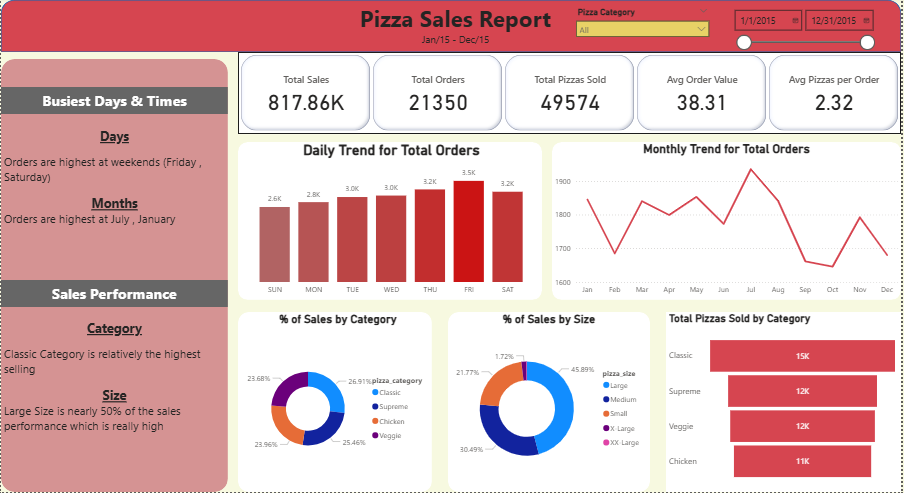

What the dashboard file says about the page in this screenshot:
{"tool":"powerbi","page":{"name":"Home","canvas":[1500,820],"ordinal":0},"visuals":[{"type":"cardVisual","fields":{"Data":["pizza_sales.Total Sales","pizza_sales.Total Orders","pizza_sales.Total Pizzas Sold","pizza_sales.Avg Order Value","pizza_sales.Avg Pizzas per Order"]},"box":[395,86.7,1105,136.7],"z":0},{"type":"shape","box":[0,0,1500,86.7],"z":1000},{"type":"textbox","box":[15,0,1485,86.7],"z":2000},{"type":"shape","box":[395,236.7,506.7,263.3],"z":3000},{"type":"columnChart","title":"Daily Trend for Total Orders","fields":{"Category":["pizza_sales.Order Day"],"Y":["pizza_sales.Total Orders"]},"box":[400,236.7,501.7,263.3],"z":4000},{"type":"shape","box":[1108.3,520,391.7,300],"z":5000},{"type":"shape","box":[395,520,323.3,300],"z":6000},{"type":"shape","box":[918.3,236.7,581.7,263.3],"z":7000},{"type":"lineChart","title":"Monthly Trend for Total Orders","fields":{"Category":["pizza_sales.Month.1"],"Y":["pizza_sales.Total Orders"]},"box":[918.3,236.7,581.7,263.3],"z":8000},{"type":"donutChart","title":"% of Sales by Category","fields":{"Y":["Sum(pizza_sales.total_price)"],"Category":["pizza_sales.pizza_category"]},"box":[400,520,323.3,300],"z":9000},{"type":"shape","box":[745,520,336.7,300],"z":10000},{"type":"donutChart","title":"% of Sales by Size","fields":{"Y":["Sum(pizza_sales.total_price)"],"Category":["pizza_sales.pizza_size"]},"box":[745,520,336.7,300],"z":11000},{"type":"shape","box":[0,98.3,378.3,721.7],"z":12000},{"type":"funnel","title":"Total Pizzas Sold by Category","fields":{"Y":["Sum(pizza_sales.quantity)"],"Category":["pizza_sales.pizza_category"]},"box":[1108.3,520,391.7,300],"z":13000},{"type":"textbox","box":[0,145,378.3,45],"z":14000},{"type":"textbox","box":[0,206.7,378.3,190],"z":15000},{"type":"textbox","box":[0,466.7,378.3,45],"z":16000},{"type":"textbox","box":[0,526.3,378.3,203.3],"z":17000},{"type":"slicer","fields":{"Values":["pizza_sales.pizza_category"]},"box":[948.3,6.7,241.7,73.3],"z":18000},{"type":"slicer","fields":{"Values":["pizza_sales.order_date"]},"box":[1210,6.7,255,106.7],"z":19000}]}

Visuals, with their boxes in screenshot pixels (x1, y1, x2, y2), scaled from the page's 1500x820 canvas onto the 904x493 screenshot:
cardVisual - pizza_sales.Total Sales x pizza_sales.Total Orders: x1=238 y1=52 x2=903 y2=134
shape: x1=0 y1=0 x2=903 y2=52
textbox: x1=9 y1=0 x2=903 y2=52
shape: x1=238 y1=142 x2=543 y2=301
"Daily Trend for Total Orders" columnChart: x1=241 y1=142 x2=543 y2=301
shape: x1=668 y1=313 x2=903 y2=492
shape: x1=238 y1=313 x2=433 y2=492
shape: x1=553 y1=142 x2=903 y2=301
"Monthly Trend for Total Orders" lineChart: x1=553 y1=142 x2=903 y2=301
"% of Sales by Category" donutChart: x1=241 y1=313 x2=436 y2=492
shape: x1=449 y1=313 x2=652 y2=492
"% of Sales by Size" donutChart: x1=449 y1=313 x2=652 y2=492
shape: x1=0 y1=59 x2=228 y2=492
"Total Pizzas Sold by Category" funnel: x1=668 y1=313 x2=903 y2=492
textbox: x1=0 y1=87 x2=228 y2=114
textbox: x1=0 y1=124 x2=228 y2=239
textbox: x1=0 y1=281 x2=228 y2=308
textbox: x1=0 y1=316 x2=228 y2=439
slicer - pizza_sales.pizza_category: x1=572 y1=4 x2=717 y2=48
slicer - pizza_sales.order_date: x1=729 y1=4 x2=883 y2=68
